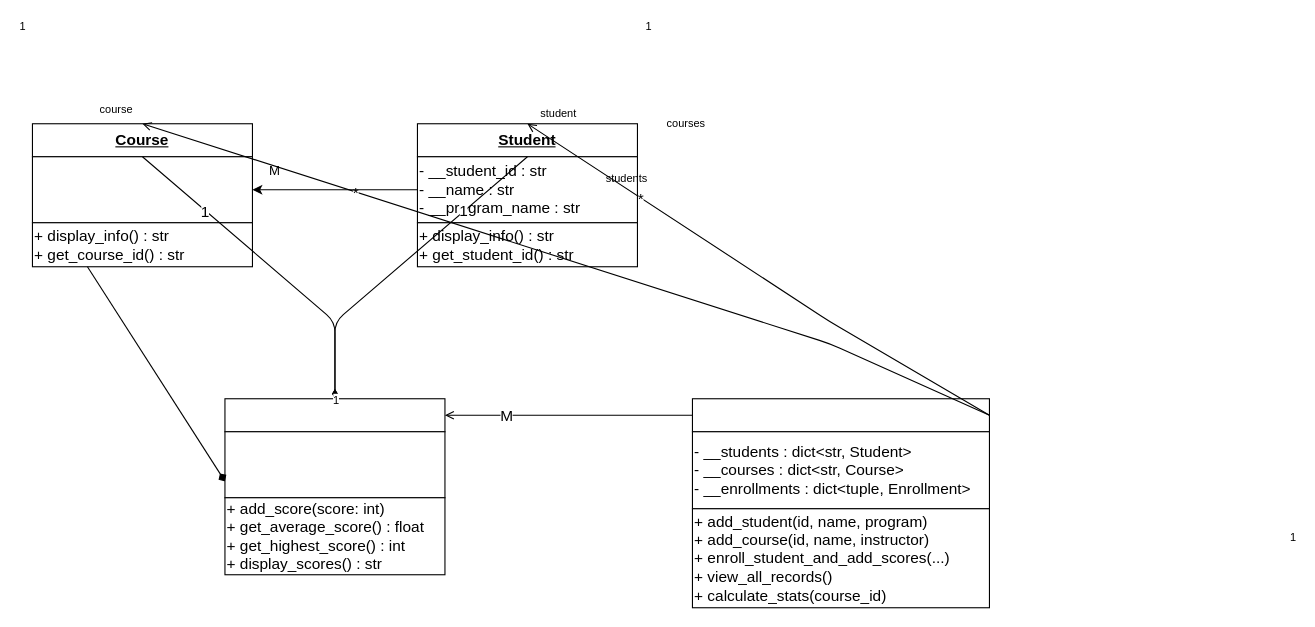
Some shapes in this 1315 by 627 pixel diagram are drawn without their labels. The box of each missing label's shape, as (x1, y1, x2, y2) in pixels:
- __course_id : str - __name : str - __instructor : str: (31, 156, 252, 223)
- __student : Student - __course : Course - __scores : list<int>: (224, 431, 445, 498)
AcademicRecordSystem: (691, 398, 989, 432)
Enrollment: (224, 398, 445, 432)
